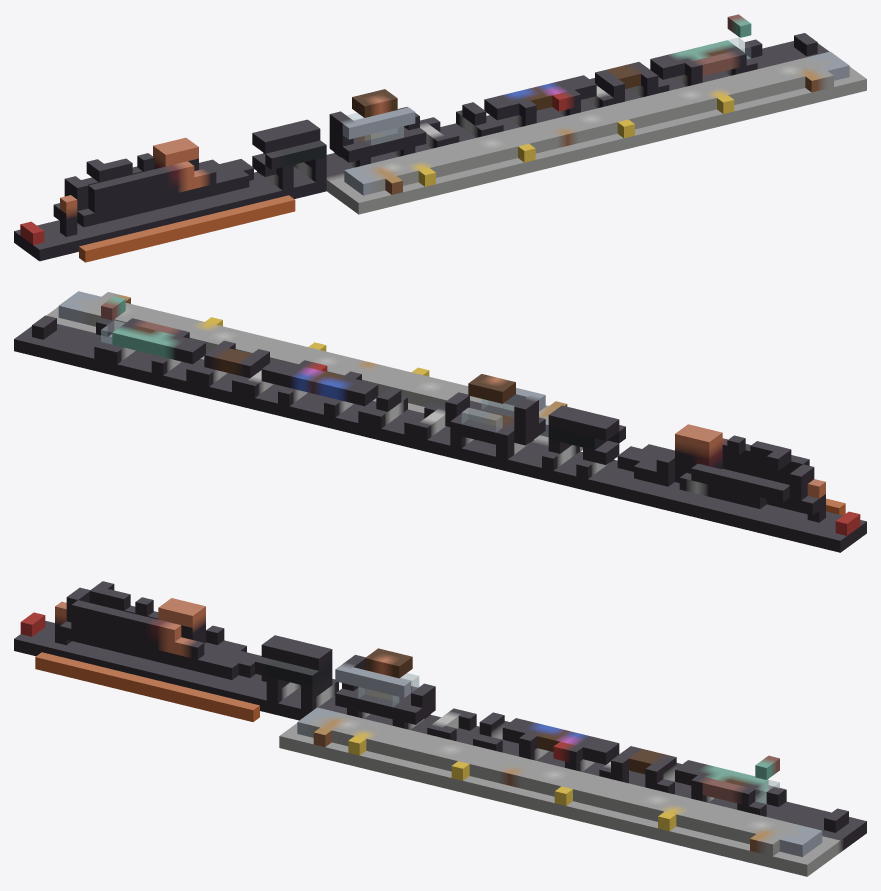
The model's file is train.glb.
3 views of the same model, one above another, from view 1: azimuth 30°, elevation 25°; view 2: azimuth 150°, elevation 25°; view 3: azimuth 330°, elevation 25° (orthographic). The views are drawn at different scales.
Parts seen in each view (by area): view 1: train_LOD2; view 2: train_LOD2; view 3: train_LOD2.
Boxes of the visible parts, <box> form: train_LOD2: <box>14,14,866,262</box>; train_LOD2: <box>14,291,866,552</box>; train_LOD2: <box>14,581,866,876</box>.
Bounding box in the file's own units: 72 × 6 × 9.
2 materials, 2 textured.
